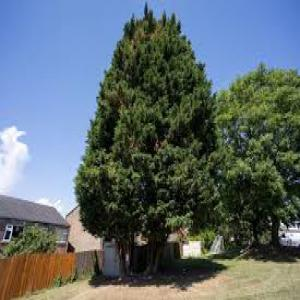Tree: (74, 5, 223, 275), (213, 60, 299, 250)
